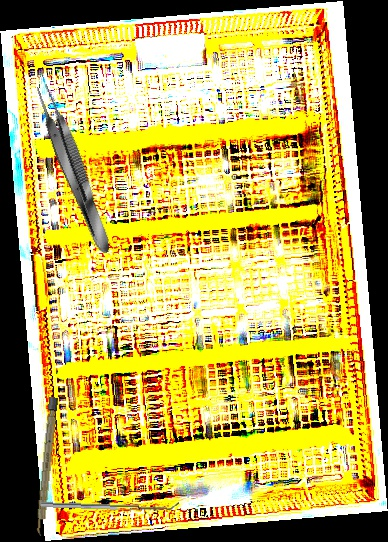Scalpel Handle: (34, 396, 59, 537)
Spatula Surgical: (41, 497, 179, 512)
Tissue Forceps: (29, 81, 118, 258)
